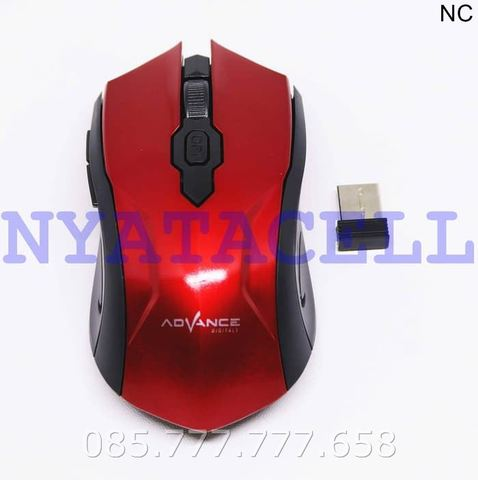Mouse: (74, 32, 322, 451)
